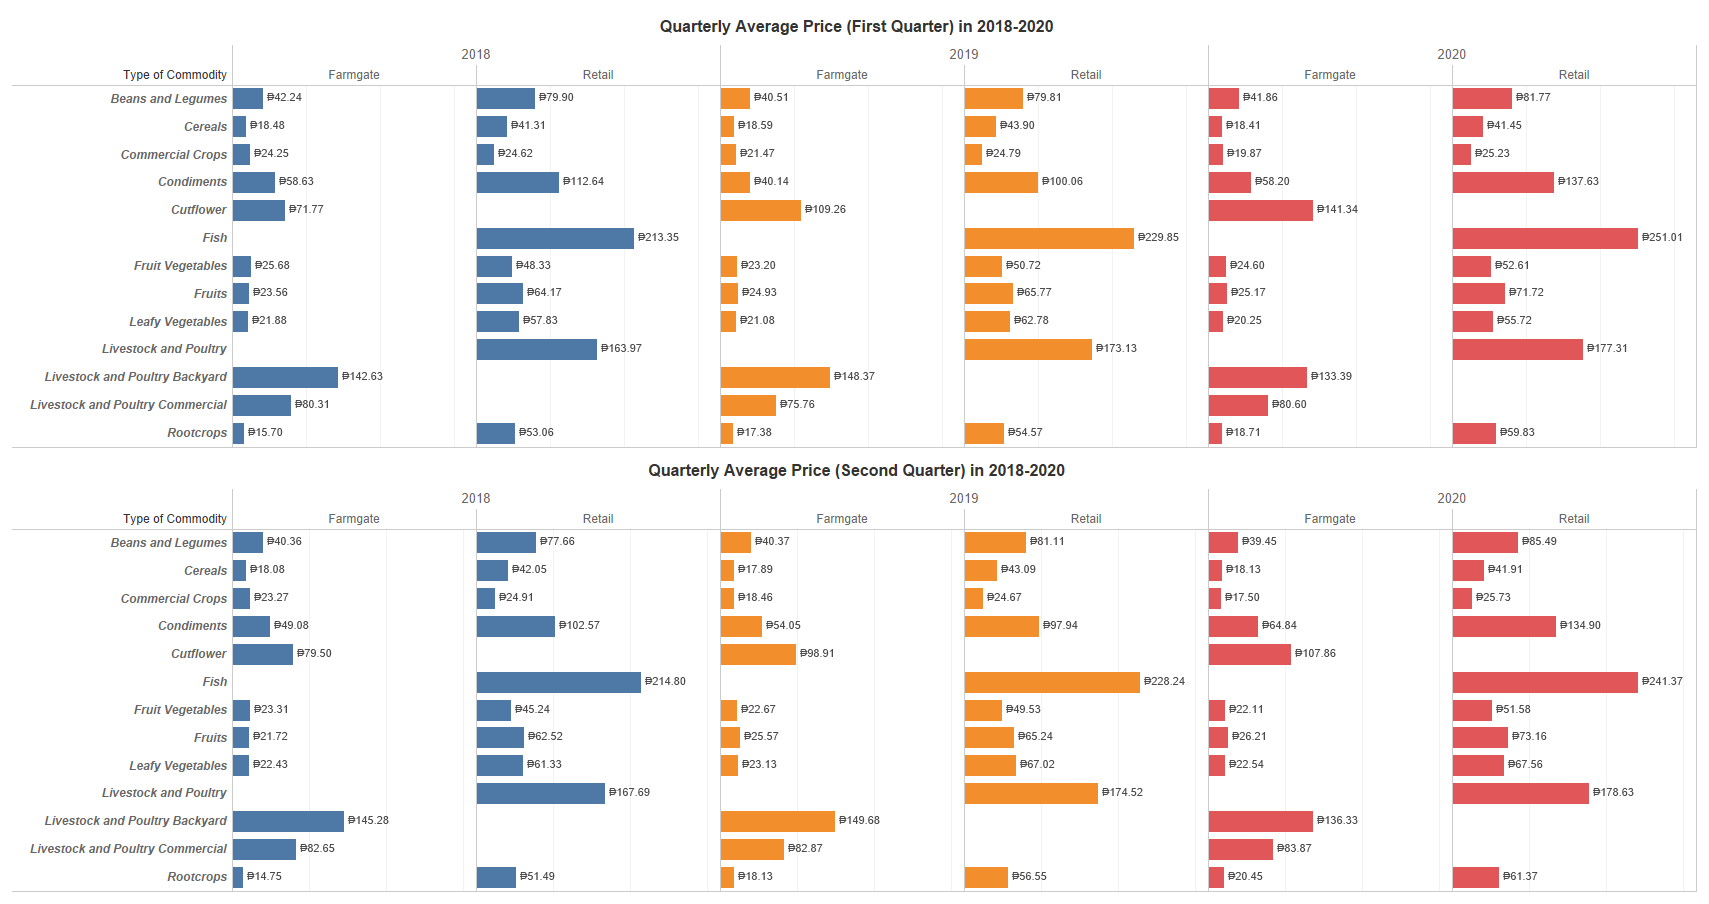

What the dashboard file says about the page in this screenshot:
{"tool":"tableau","page":{"name":"Objective 1.1","canvas":[1000,1000],"units":"permille","ordinal":0},"visuals":[{"type":"worksheet","title":"Quarter 1 Average price","mark":"Bar","rows":["Type of Commodity"],"cols":["Date","Pricing Series","Calculation_2516104862589501441"],"box":[4.7,8.8,990.6,491.1]},{"type":"worksheet","title":"Quarter 2 Average price","mark":"Bar","rows":["Type of Commodity"],"cols":["Date","Pricing Series","Calculation_2516104862592282630"],"box":[4.7,500,990.6,491.2]}]}

Visuals, with their boxes on the dashboard's canvas, which has no fixed pixel size, in thousandths of its width and height (x1, y1, x2, y2). These are canvas units, not pixel positions in the 1709x904 screenshot, which may show the page scaled, cropped or inside an application window:
"Quarter 1 Average price" worksheet (Bar marks): detection(5, 9, 995, 500)
"Quarter 2 Average price" worksheet (Bar marks): detection(5, 500, 995, 991)
